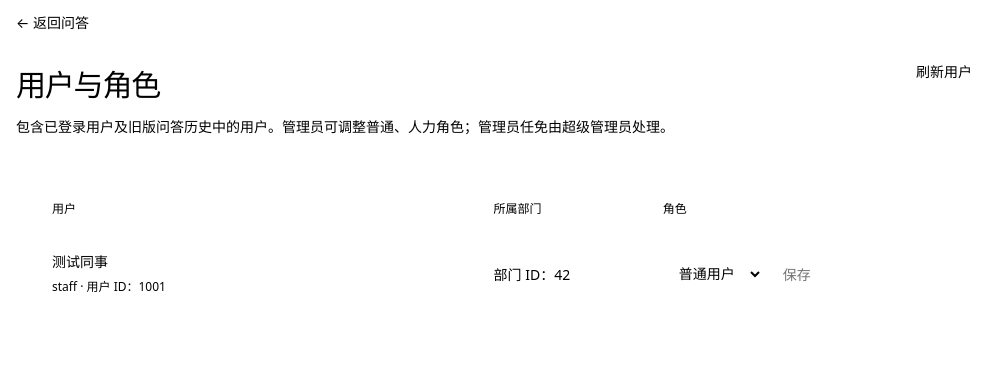
it: 用户资料和角色 › 已登录用户 可按真实用户 ID 保存角色
Expected: the text "测试同事" is shown, top-left (52, 252), bottom-right (108, 271)
Expected: the text "用户 ID：1001" is shown, top-left (52, 278), bottom-right (166, 295)
Select "人力角色" in the dropdown named "测试同事的角色": (713, 274) top-left (663, 255), bottom-right (763, 293)
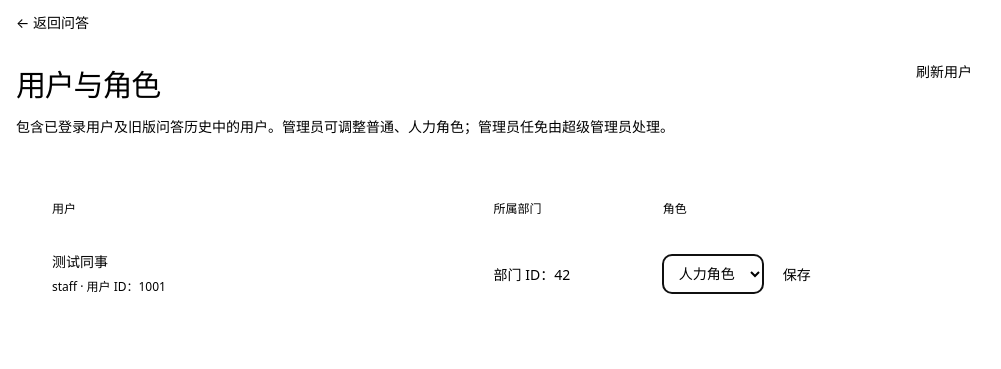
Click the button "保存": (797, 274) top-left (771, 255), bottom-right (823, 293)
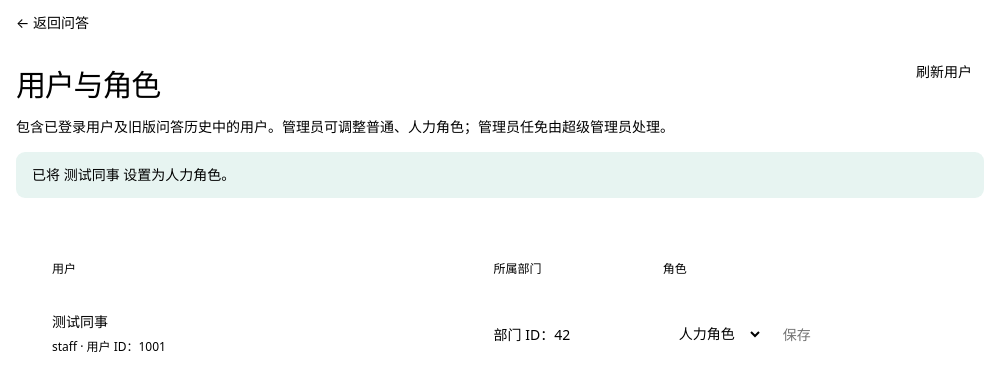
Expected: the text "已将 测试同事 设置为人力角色。" is shown, top-left (16, 152), bottom-right (984, 198)
